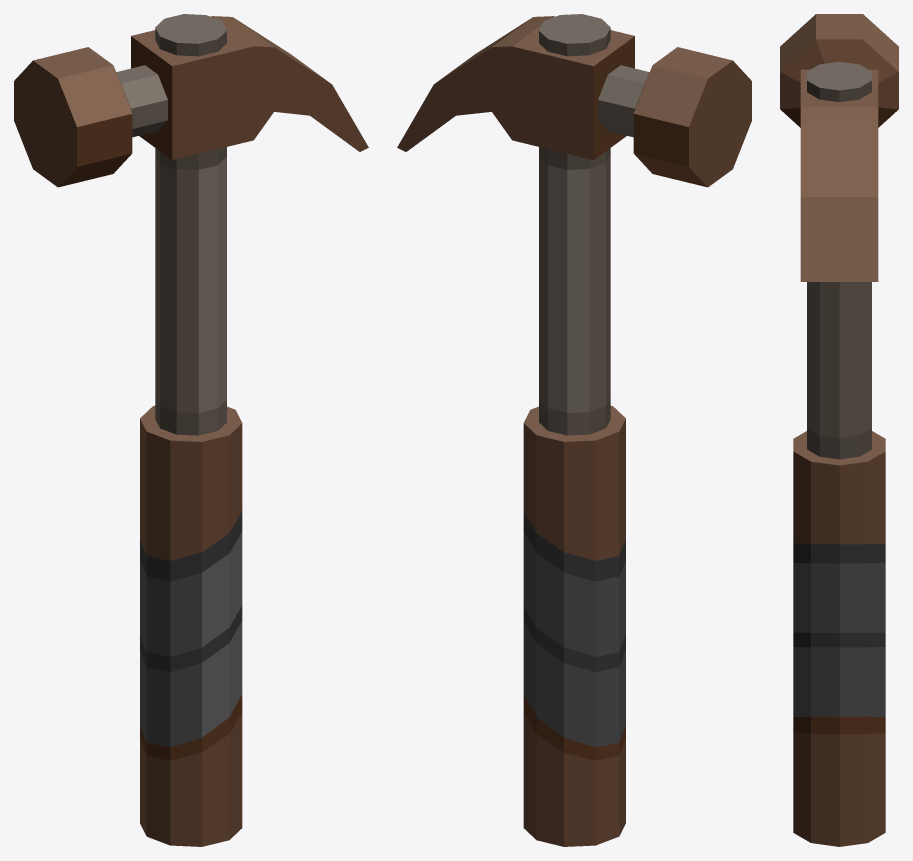
Rendered from Tool_Hammer_01.fbx.
The picture shows the model from 3 angles, left to right: view 1: azimuth 30°, elevation 25°; view 2: azimuth 150°, elevation 25°; view 3: azimuth 270°, elevation 25°; orthographic projection. The views are drawn at different scales.
Visible parts, largest first — view 1: Tool_Hammer_01; view 2: Tool_Hammer_01; view 3: Tool_Hammer_01.
Part boxes in pixels (left/top/right/bottom): Tool_Hammer_01: left=14, top=14, right=368, bottom=846; Tool_Hammer_01: left=397, top=14, right=751, bottom=846; Tool_Hammer_01: left=780, top=14, right=898, bottom=846.
Size of the model in its own units: 0.1709 by 0.4297 by 0.0616.
